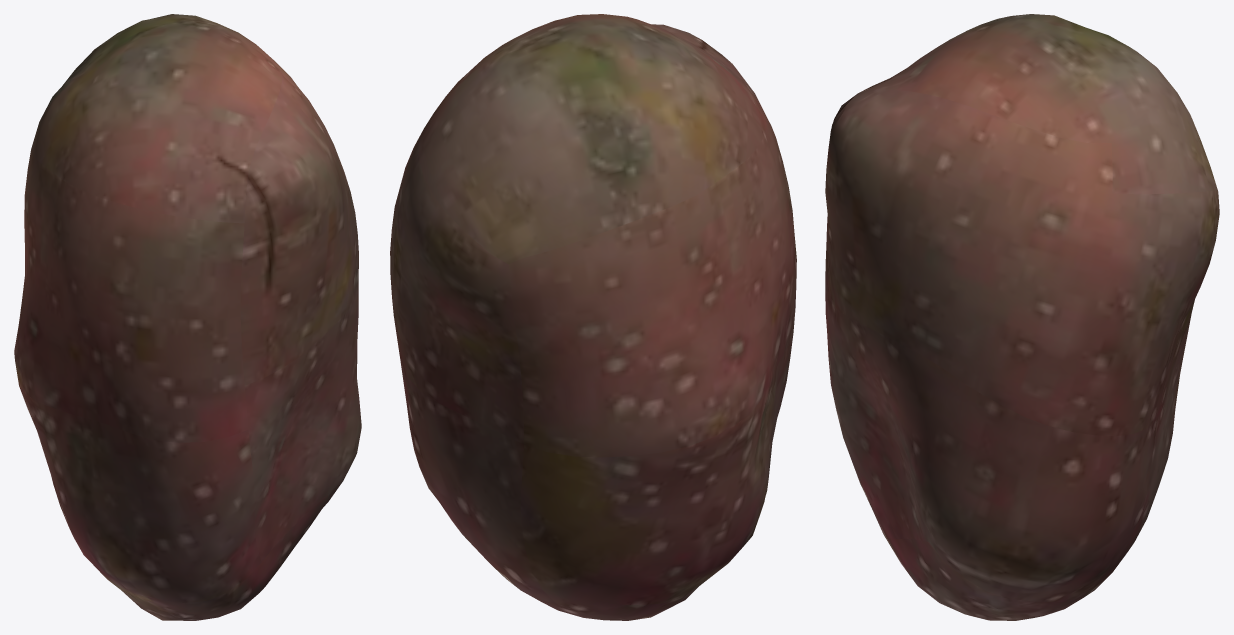
The model's file is sweet_potato.glb.
3 views of the same model, side by side, from view 1: azimuth 30°, elevation 25°; view 2: azimuth 150°, elevation 25°; view 3: azimuth 270°, elevation 25° (orthographic). The views are drawn at different scales.
Parts seen in each view (by area): view 1: sweet_potato; view 2: sweet_potato; view 3: sweet_potato.
Boxes of the visible parts, x1,y1,x2,y2 form: sweet_potato: [14, 14, 361, 620]; sweet_potato: [390, 14, 796, 620]; sweet_potato: [825, 14, 1219, 620].
Size of the model in its own units: 0.0581 by 0.1005 by 0.061.
1 material, 1 textured.
